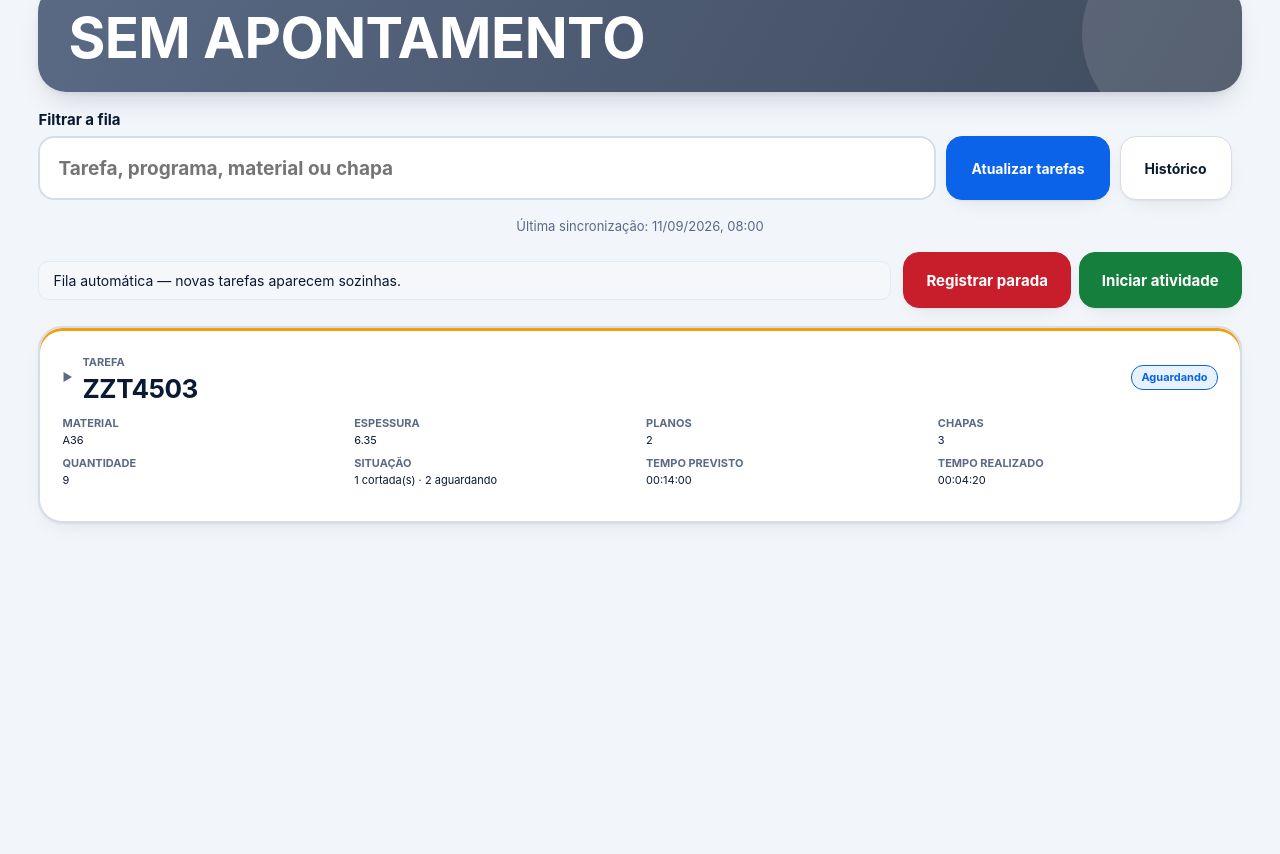
hierarquia da tela de Corte › mostra chapas e repetição vindas do SigmaNEST, sem assumir uma chapa por nesting
Expected: the heading "ZZT4503" is shown, [82,373,198,404]
Step 1. Click the button "▶ Tarefa ZZT4503" → (130, 377), box [62,350,198,404]
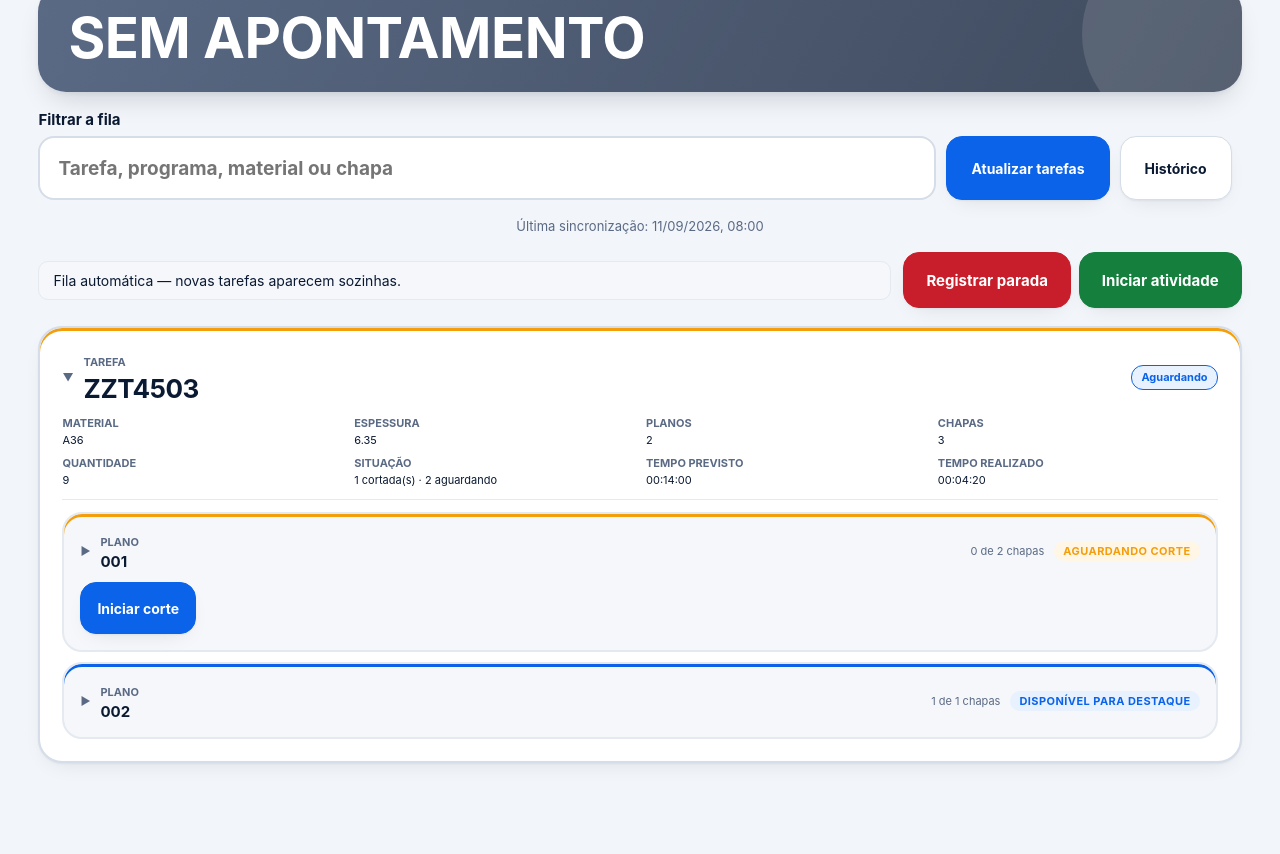
Step 2. Click the 1st button with class "cutting-plan__toggle" → (120, 542), box [80,530,1200,571]
(page scrolled)
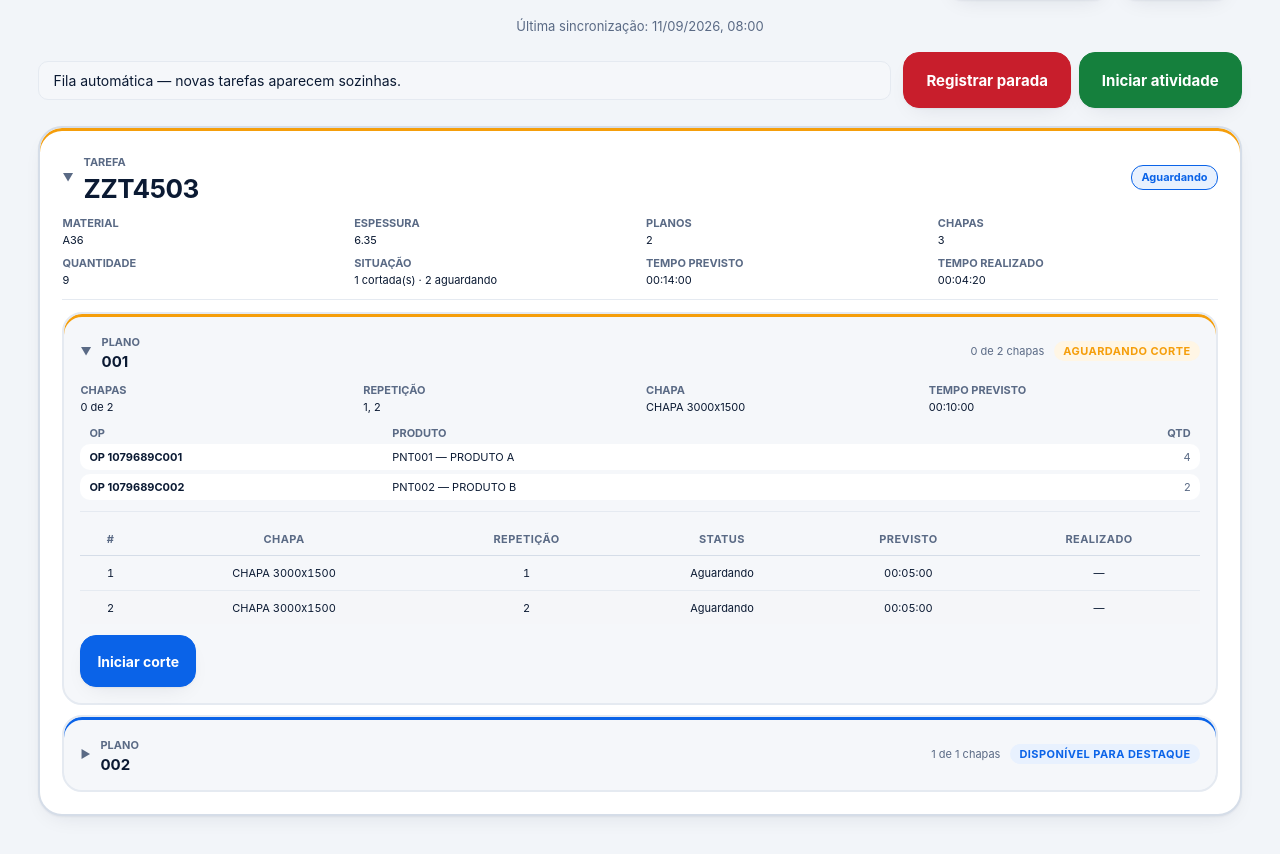
Now the text "0 de 2" is shown, box [80,400,113,414]
Now the text "1, 2" is shown, box [363,400,381,414]
Now the number of rows is 4, box [80,426,1200,440]; [80,522,1200,556]; [80,556,1200,590]; [80,590,1200,624]
Step 3. Click the 2nd button with class "cutting-plan__toggle" → (120, 745), box [80,733,1200,774]
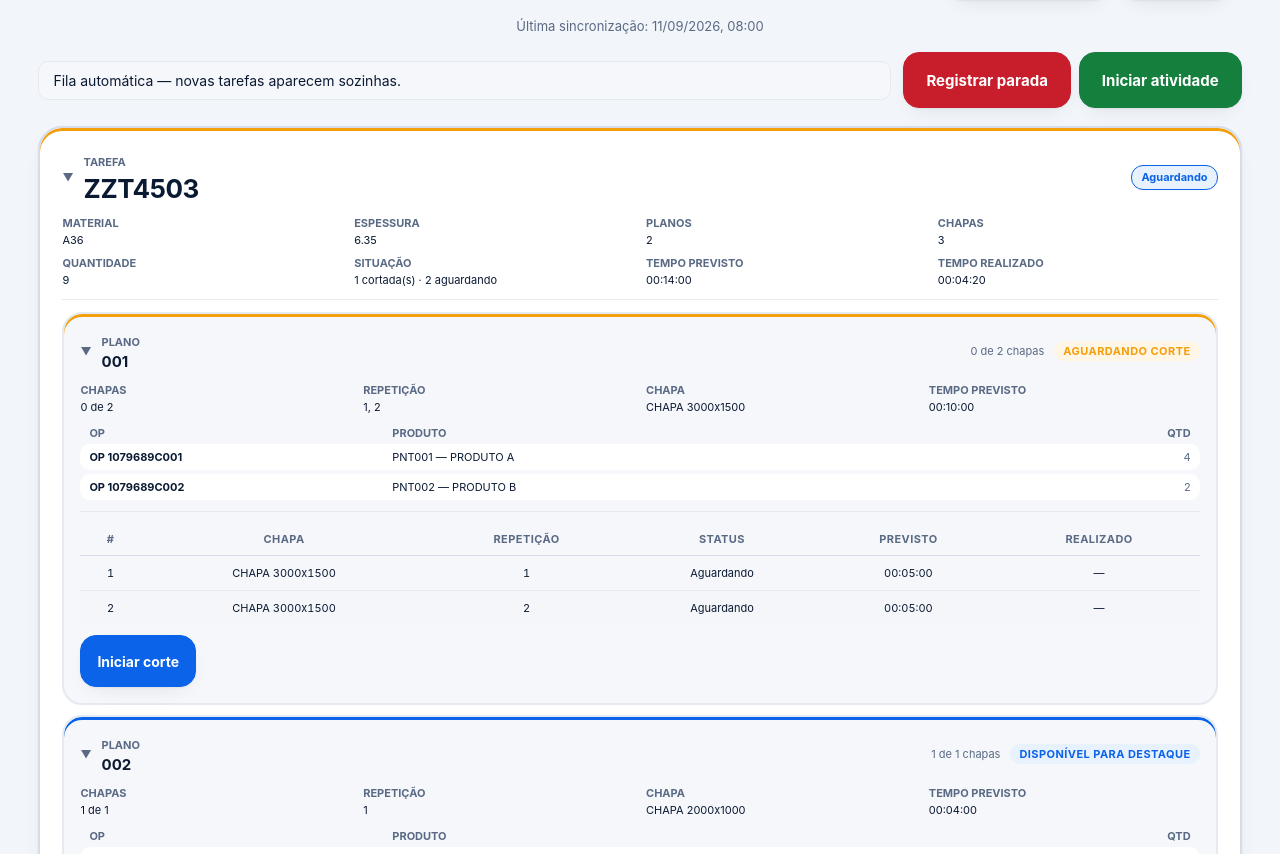
Now the text "1 de 1" is shown, box [80,803,109,817]
